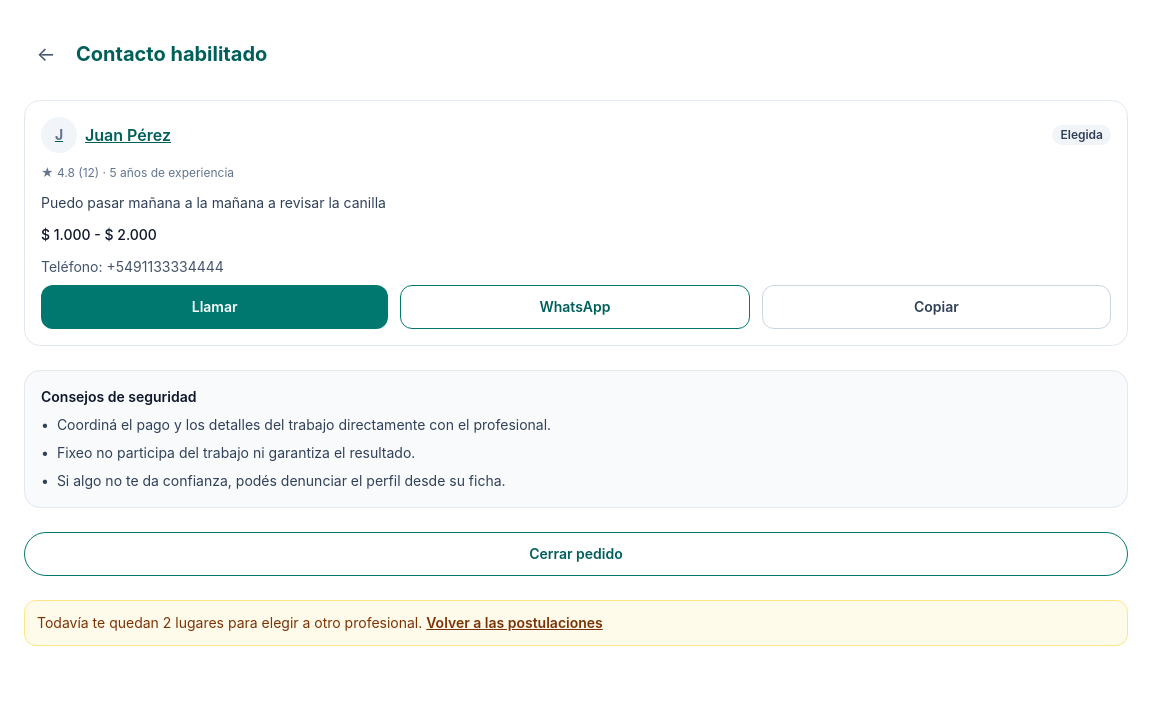
Test: ContactoPedidoPage › copia el telefono al portapapeles y muestra la confirmacion
Click the button "Copiar". click: click(936, 307)
box: [762, 285, 1111, 329]
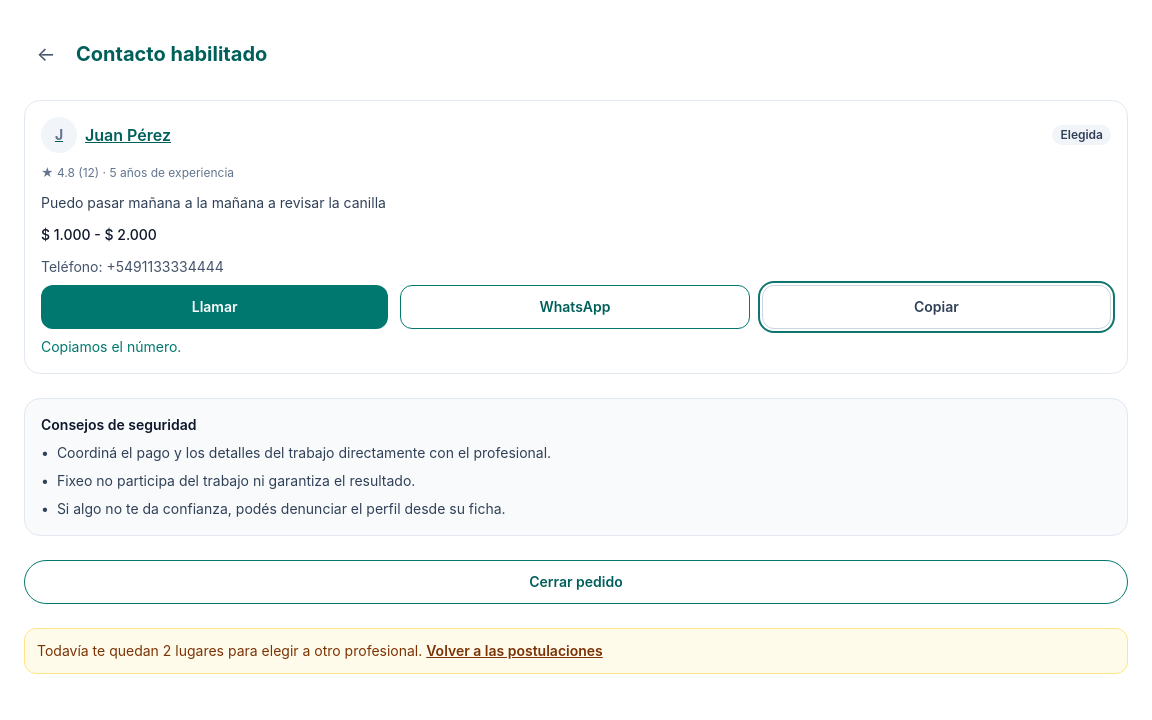
Check: the text "Copiamos el número." is shown, box [41, 338, 181, 355]
